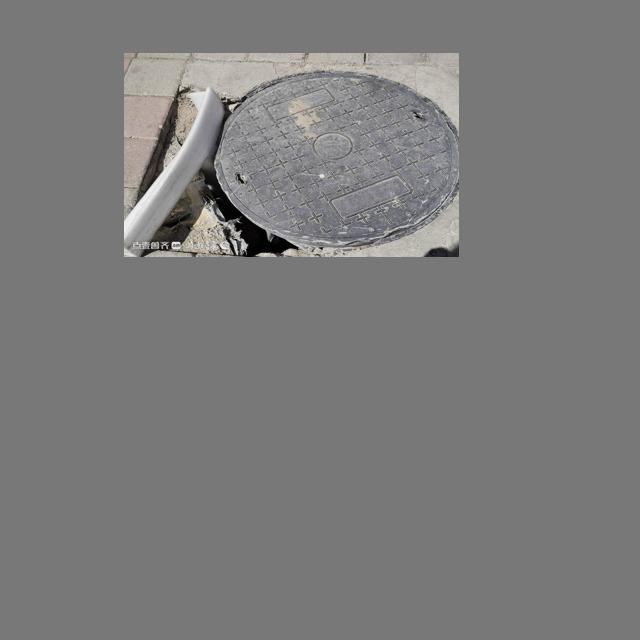circle: (151, 72, 454, 251)
